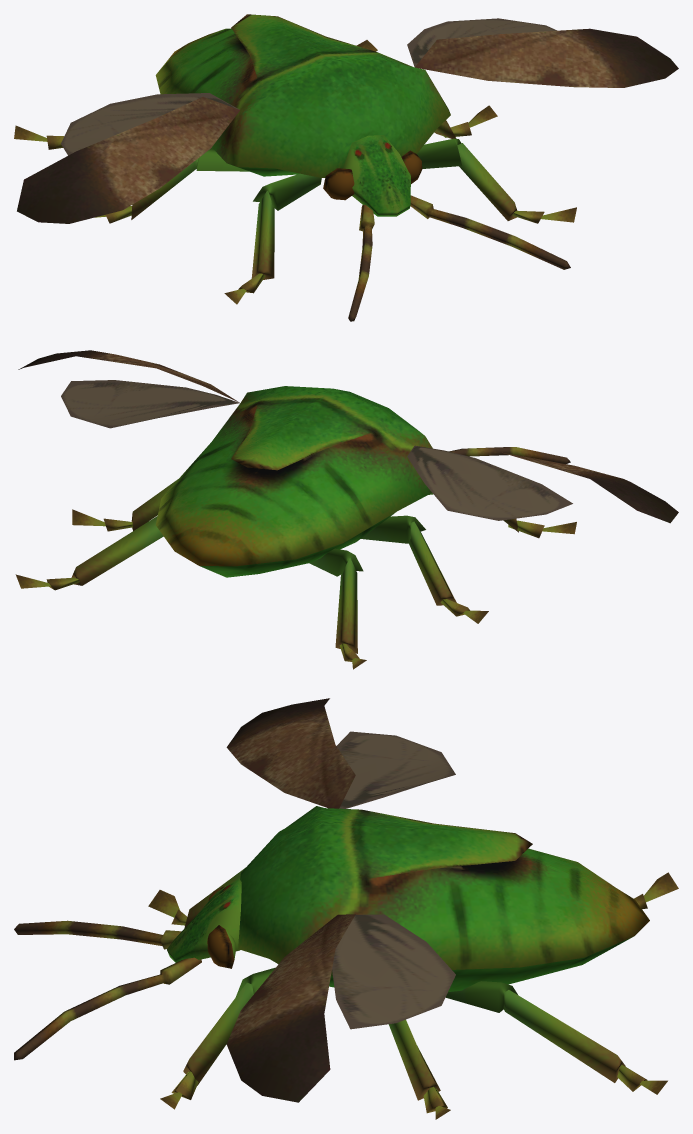
The model's file is InsectKamemushi.glb.
3 renders of one model, top to bottom at view 1: azimuth 30°, elevation 25°; view 2: azimuth 150°, elevation 25°; view 3: azimuth 270°, elevation 25°, orthographic. The views are drawn at different scales.
Visible parts, largest first — view 1: body130__mKamemushi, body143__mWing; view 2: body130__mKamemushi, body143__mWing; view 3: body130__mKamemushi, body143__mWing.
Boxes of the visible parts, x1,y1,x2,y2 form: body130__mKamemushi: [14, 14, 678, 321]; body143__mWing: [61, 18, 556, 155]; body130__mKamemushi: [15, 350, 678, 669]; body143__mWing: [61, 380, 572, 520]; body130__mKamemushi: [14, 698, 678, 1119]; body143__mWing: [332, 731, 455, 1029].
Bounding box in the file's own units: 4.91 × 1.1 × 3.56.
2 materials, 2 textured.
